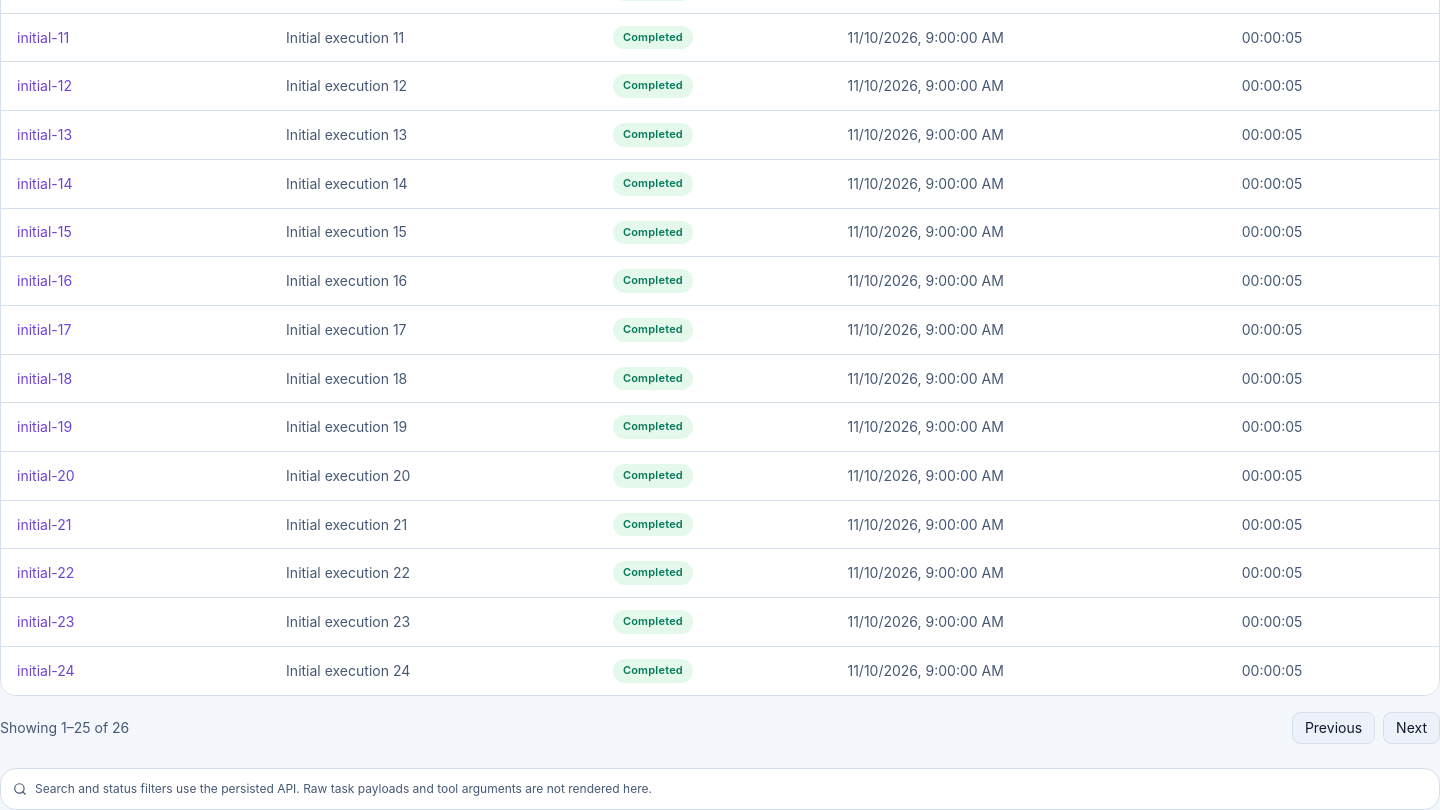
Test: ExecutionsPage › resets to the first page when all matching executions disappeared
(page scrolled)
Click the button "Next" at coordinates (1412, 728), box [1383,712,1439,744]
(page scrolled)
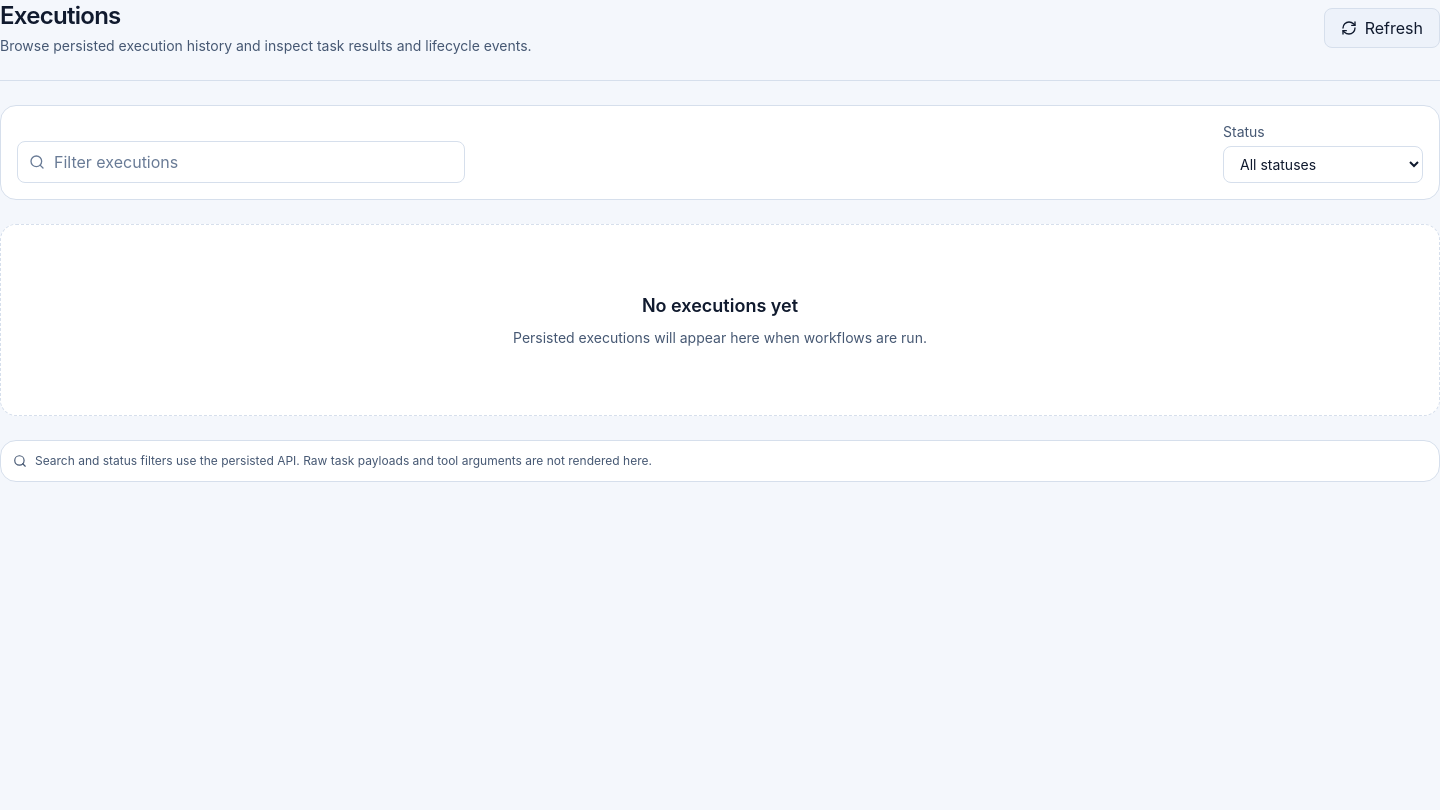
Check: the text "No executions yet" is shown, box [642,292,798,320]
